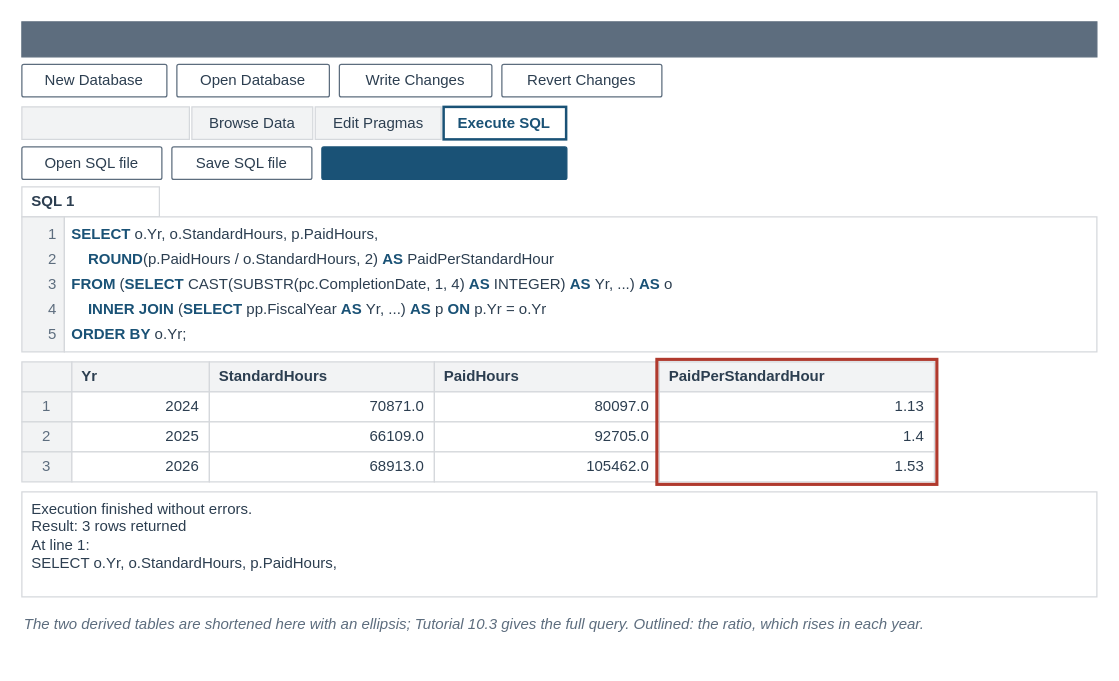
The diagram is 1119 pixels wide and 681 high, and some of its shapes have lost their labels. Here are the shapes that lost their labels. From the top down, the centre of each, then its label:
At point (559, 39): "DB Browser for SQLite - CharlesRiver_Work.sqlite".
At point (105, 122): "Database Structure".
At point (444, 162): "▶ Execute all/selected SQL".
